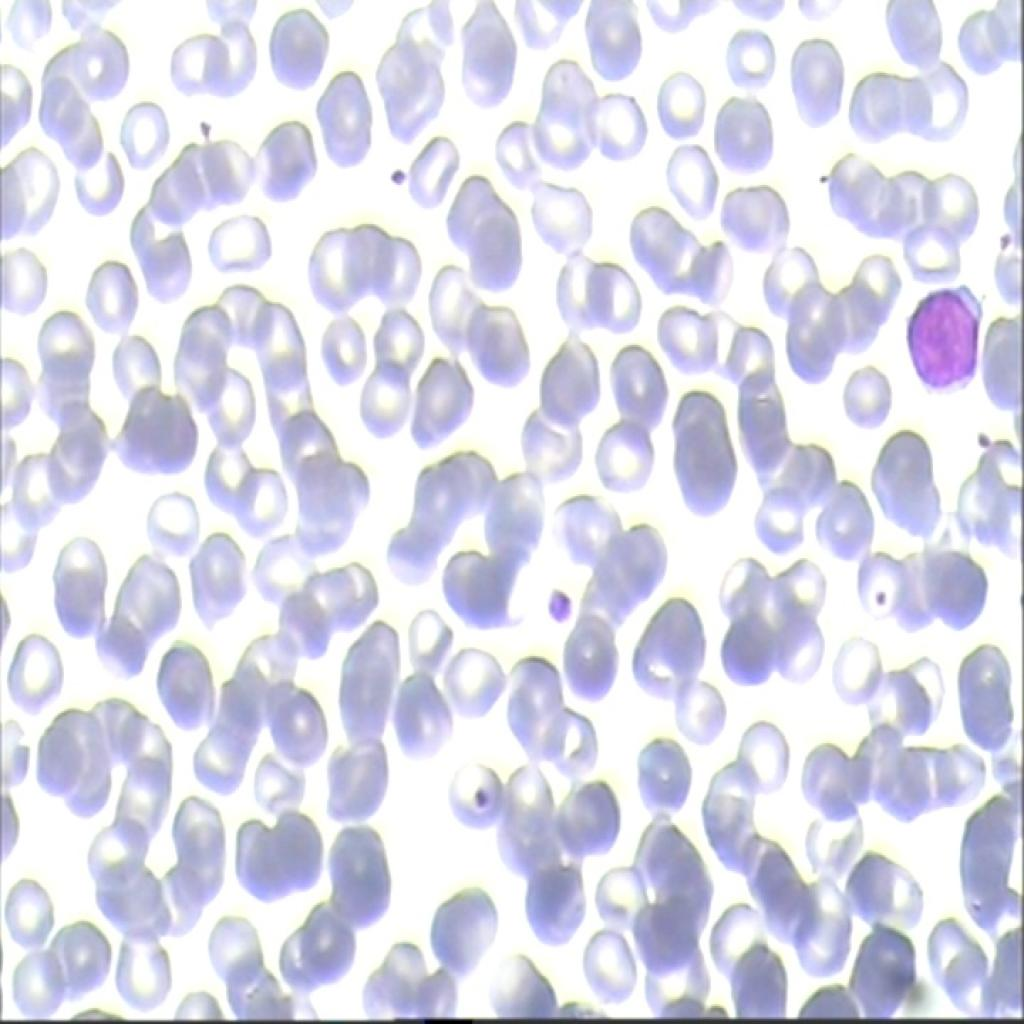Limfosit: (894, 277, 978, 391)
Platelet: (538, 572, 580, 630), (381, 149, 418, 208), (991, 208, 1021, 261), (468, 777, 502, 816), (970, 411, 997, 455), (872, 574, 892, 604)
